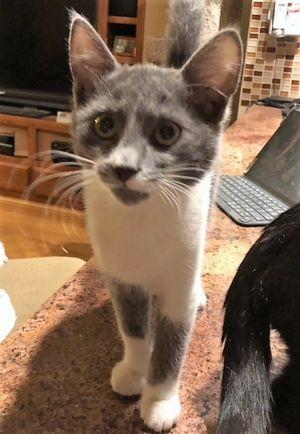rblue: (35, 1, 264, 230)
